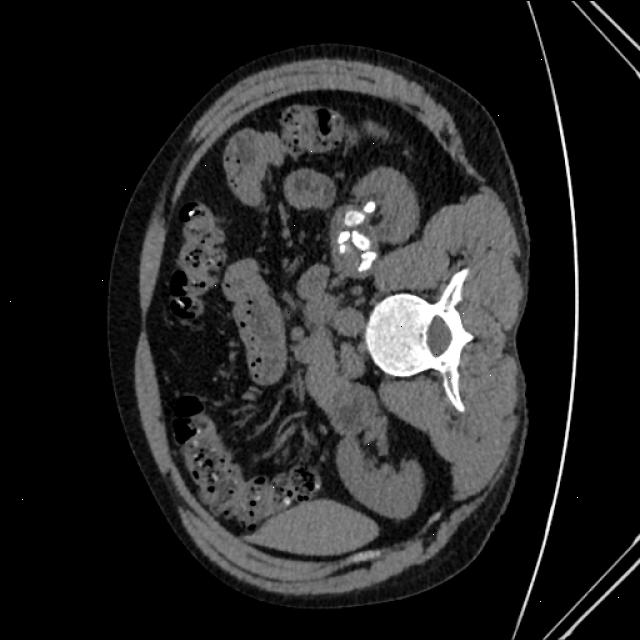kidneystone: (359, 251, 377, 271), (352, 230, 370, 250), (344, 209, 364, 226), (339, 231, 349, 252), (364, 200, 376, 212)
